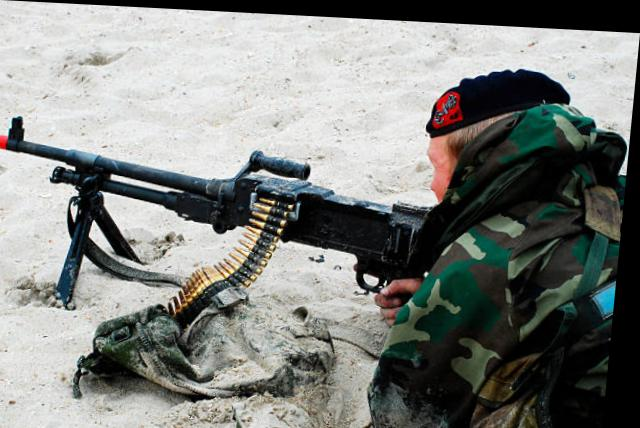other: (367, 51, 636, 426)
